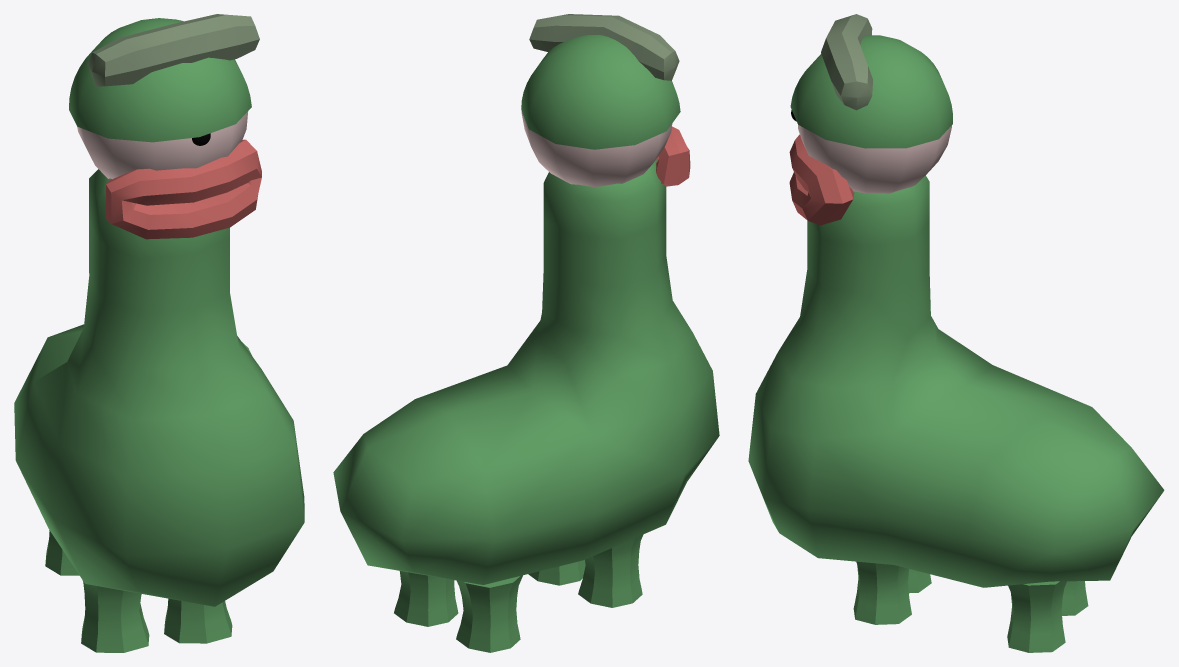
Rendered from elf9.glb.
The picture shows the model from 3 angles, left to right: view 1: azimuth 30°, elevation 25°; view 2: azimuth 150°, elevation 25°; view 3: azimuth 270°, elevation 25°; orthographic projection. The views are drawn at different scales.
Visible parts, largest first — view 1: body, eyelid, mouth, eyebrow, feet (×3), eye; view 2: body, eyelid, feet (×4), eye, eyebrow, mouth; view 3: body, eyelid, feet (×3), eye, eyebrow, mouth.
Part boxes in pixels (<box>): body: <box>14,169,304,606</box>; eyelid: <box>69,18,251,142</box>; mouth: <box>105,139,261,239</box>; eyebrow: <box>87,14,259,86</box>; feet (×3): <box>45,530,232,652</box>; eye: <box>77,111,248,179</box>; body: <box>333,159,719,584</box>; eyelid: <box>521,35,680,149</box>; feet (×4): <box>394,534,643,652</box>; eye: <box>521,111,672,187</box>; eyebrow: <box>529,14,679,80</box>; mouth: <box>656,126,690,186</box>; body: <box>748,175,1164,587</box>; eyelid: <box>790,35,952,148</box>; feet (×3): <box>853,561,1088,652</box>; eye: <box>798,125,951,193</box>; eyebrow: <box>821,14,872,110</box>; mouth: <box>789,134,854,225</box>.
Size of the model in its own units: 1.51 by 2.99 by 2.
